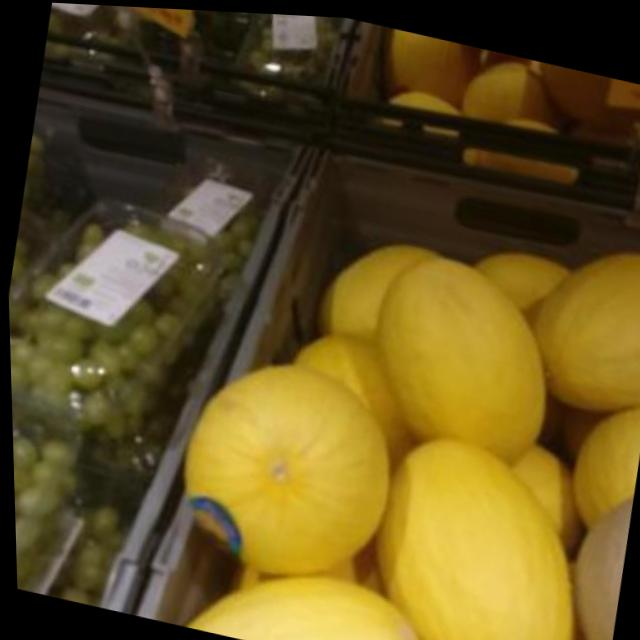Galia: (161, 345, 400, 591), (344, 424, 613, 640), (356, 238, 566, 467), (155, 546, 439, 640), (514, 217, 640, 413)
Grapes: (4, 171, 235, 462), (9, 391, 107, 603)
